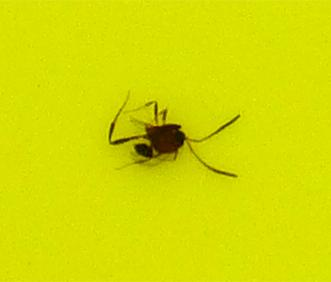Hymenoptera: (100, 100, 231, 182)
